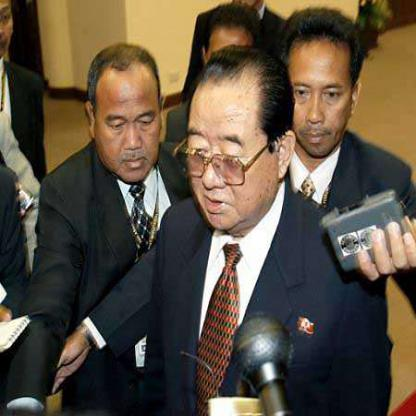face: (183, 64, 280, 233), (95, 49, 162, 185), (286, 29, 352, 157)
